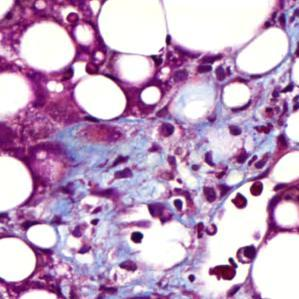steatosis: (96, 0, 170, 56), (74, 63, 127, 126), (14, 19, 72, 73), (237, 27, 290, 76), (0, 148, 33, 212), (0, 234, 36, 284), (0, 72, 31, 125), (220, 77, 258, 115), (24, 219, 67, 249), (268, 147, 299, 188), (274, 198, 298, 231)
